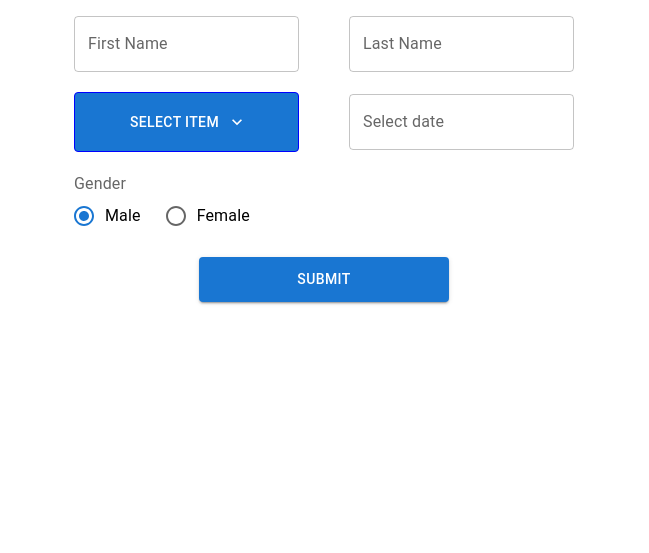
Form component integration test › Request timeout case
What coordinates should you click on to do the following:
click the submit button
I would click on:
 (324, 280)
Its box is [199,257,449,302].
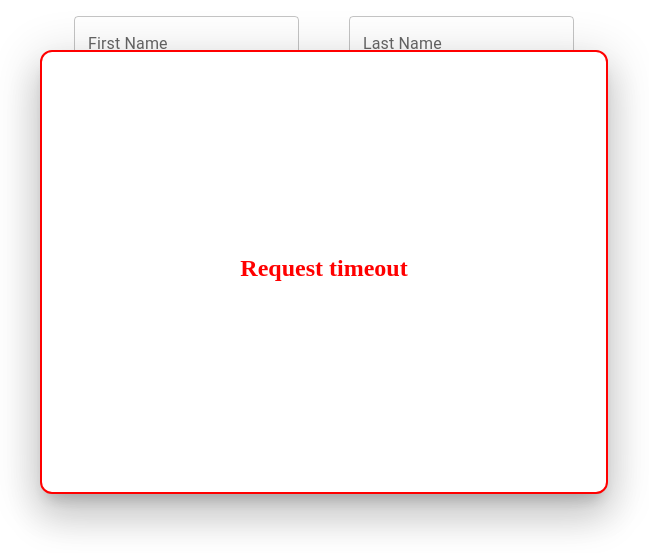
Expected: the heading "Request timeout" is shown, [240,254,408,282]
